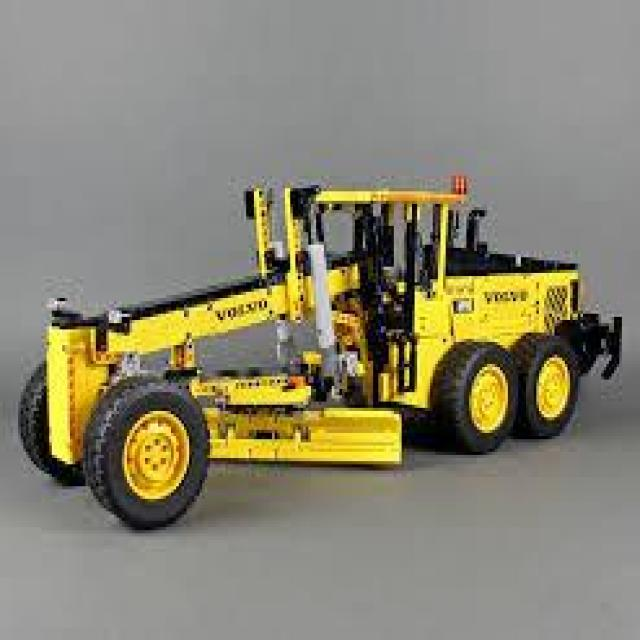Grader: (37, 147, 638, 534)
